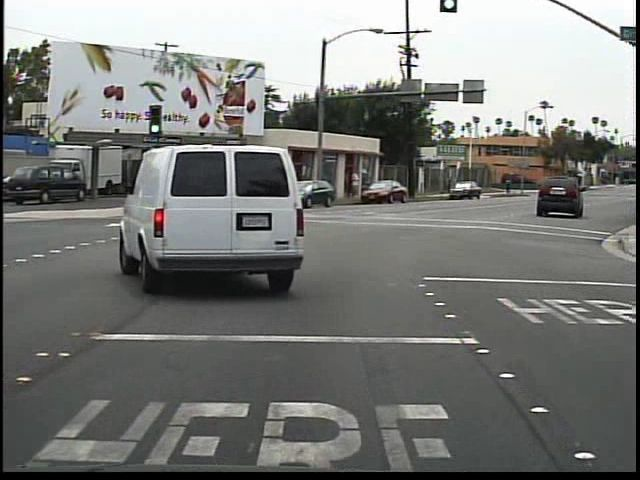person: (346, 165, 361, 201), (503, 175, 514, 197)
